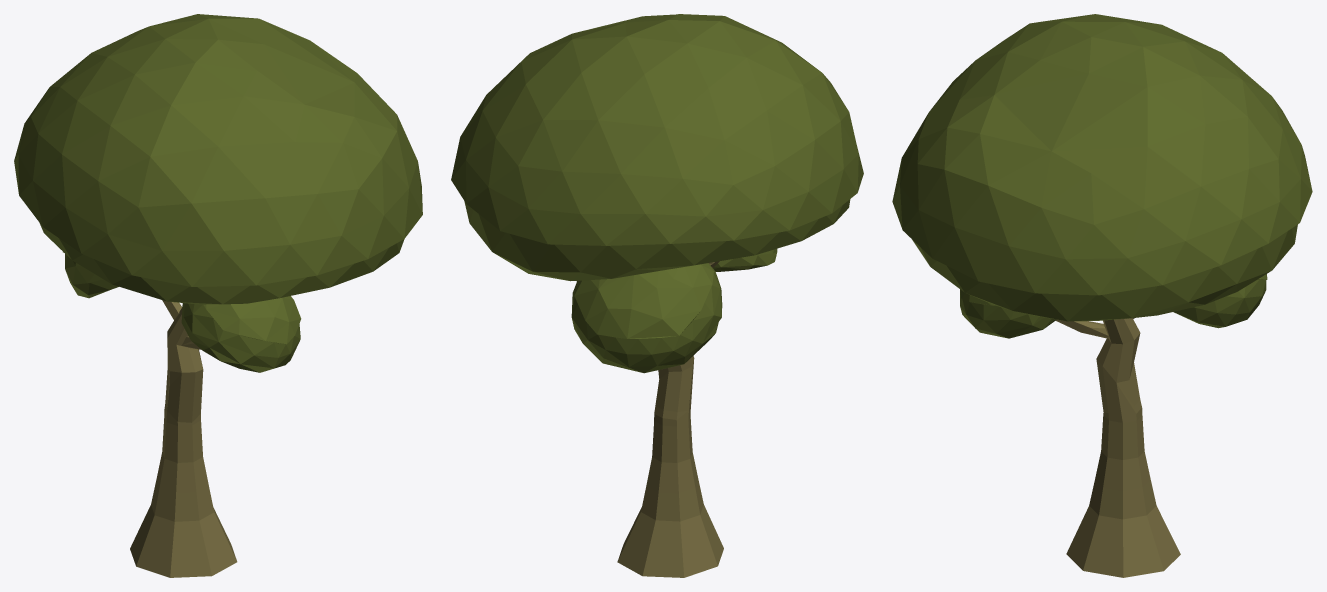
The model's file is lowpolytree.fbx.
3 renders of one model, left to right at view 1: azimuth 30°, elevation 25°; view 2: azimuth 150°, elevation 25°; view 3: azimuth 270°, elevation 25°, orthographic.
Parts seen in each view (by area): view 1: tree; view 2: tree; view 3: tree.
Part boxes in pixels (bbox=[...]): tree: bbox=[14, 14, 422, 577]; tree: bbox=[451, 14, 863, 577]; tree: bbox=[892, 14, 1312, 577].
Bounding box in the file's own units: 323 × 453 × 327.
Materials: 2 (2 with a texture image).
